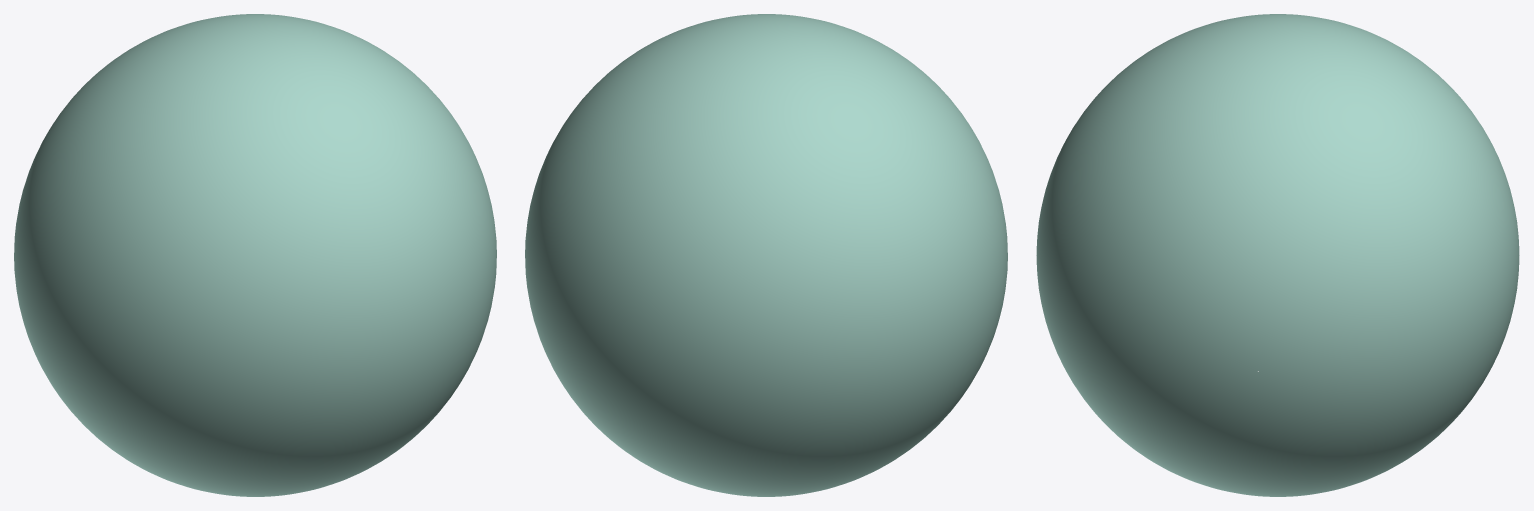
The model's file is bola-de-gude.fbx.
3 renders of one model, left to right at view 1: azimuth 30°, elevation 25°; view 2: azimuth 150°, elevation 25°; view 3: azimuth 270°, elevation 25°, orthographic.
Visible parts, largest first — view 1: Sphere; view 2: Sphere; view 3: Sphere.
Part boxes in pixels (x1=…): Sphere: x1=14, y1=14, x2=496, y2=496; Sphere: x1=525, y1=14, x2=1007, y2=496; Sphere: x1=1036, y1=14, x2=1519, y2=496.
Size of the model in its own units: 200 by 200 by 200.
